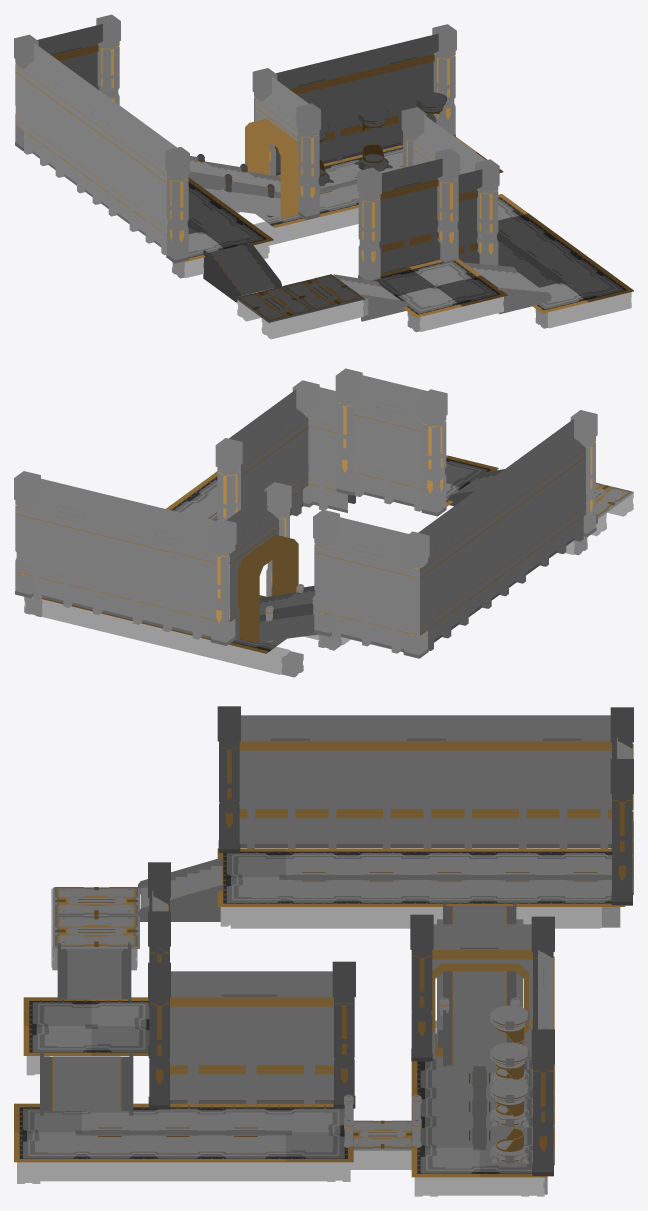
File: stanze-v1-alternative - TEST.gltf
3 views of the same model, one above another, from view 1: azimuth 30°, elevation 25°; view 2: azimuth 150°, elevation 25°; view 3: azimuth 270°, elevation 25° (orthographic). The views are drawn at different scales.
Visible parts, largest first — view 1: Plane.011, Plane.005, Plane.014, Plane.006, Plane.010, Plane.004, Plane.312, Plane.003, Plane.016, Plane.044, Plane.019, Plane.015 (+39 smaller); view 2: Plane.010, Plane.011, Plane.007, Plane.014, Plane.005, Plane.004, Plane.006, Plane.312, Plane.111, Plane.049, Plane.040, Plane.016 (+17 smaller); view 3: Plane.111, Plane.005, Plane.004, Plane.006, Plane.054, Plane.312, Plane.051, Plane.319, Plane.001, Plane.034, Plane.035, Plane.032 (+43 smaller).
Part boxes in pixels (x1,y1,x2,y2): Plane.011: (355,33,438,155); Plane.005: (68,76,131,221); Plane.014: (379,158,442,273); Plane.006: (15,43,78,182); Plane.010: (274,52,360,175); Plane.004: (121,114,176,255); Plane.312: (245,77,308,218); Plane.003: (203,239,281,302); Plane.016: (357,167,381,280); Plane.044: (296,103,320,219); Plane.019: (165,147,189,263); Plane.015: (435,148,459,262); Plane.010: (116,498,215,639); Plane.011: (16,478,122,616); Plane.007: (315,516,414,653); Plane.014: (337,375,427,511); Plane.005: (466,456,535,614); Plane.004: (523,419,586,572); Plane.006: (418,498,477,650); Plane.312: (226,491,298,643); Plane.111: (229,389,308,516); Plane.049: (24,596,303,677); Plane.040: (309,386,347,512); Plane.016: (420,389,447,516); Plane.111: (169,971,334,1104); Plane.005: (360,715,495,848); Plane.004: (239,715,359,848); Plane.006: (495,715,611,848); Plane.054: (230,907,620,928); Plane.312: (411,924,533,1057); Plane.051: (38,1162,328,1181); Plane.319: (40,1052,133,1115); Plane.001: (217,1103,285,1162); Plane.034: (353,848,421,906); Plane.035: (285,848,353,906); Plane.032: (489,848,557,906).
Size of the model in its own units: 12.38 by 5.45 by 12.78.
